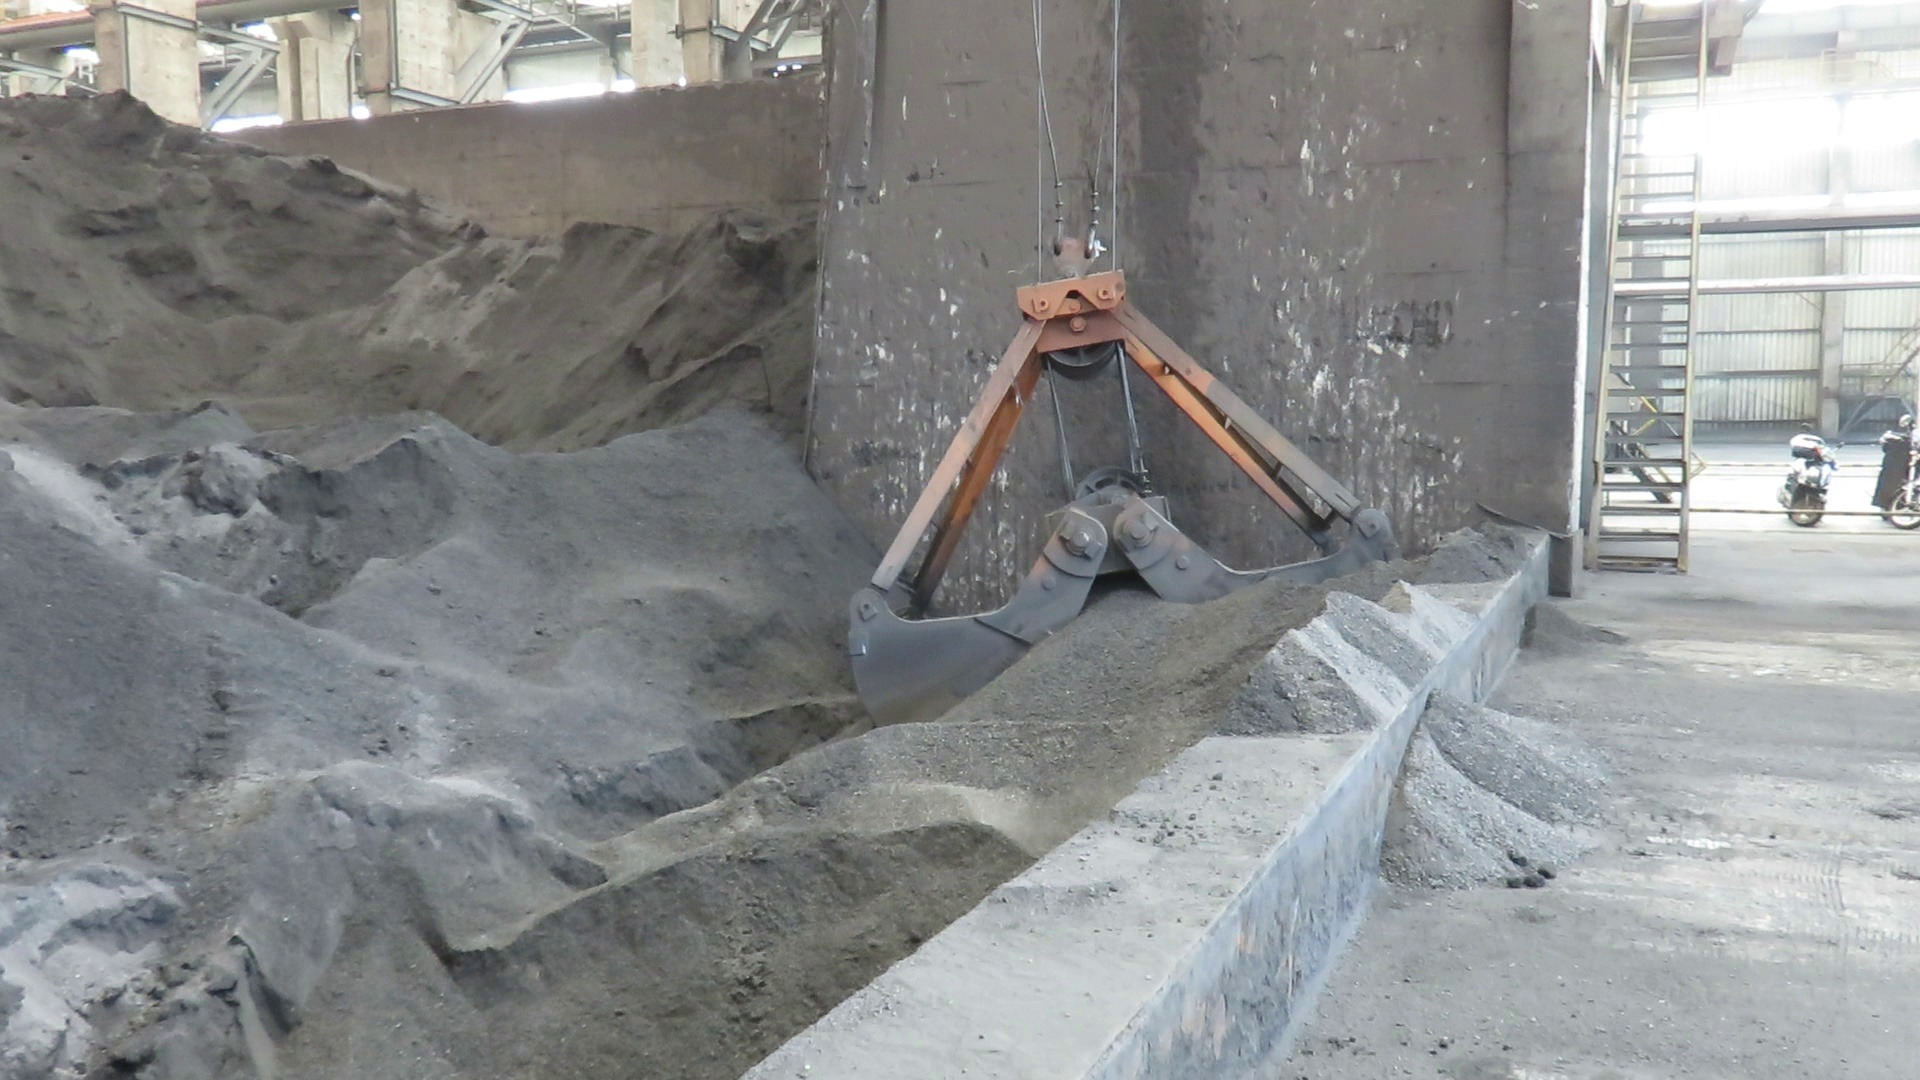grab: (833, 229, 1398, 729)
